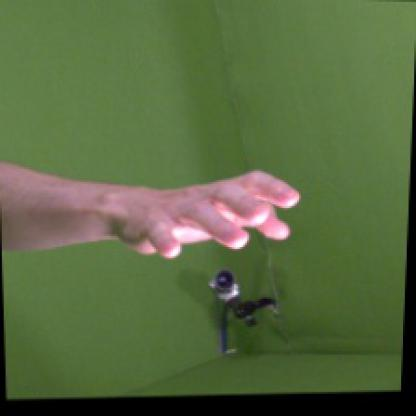Hand: (113, 168, 302, 260)
